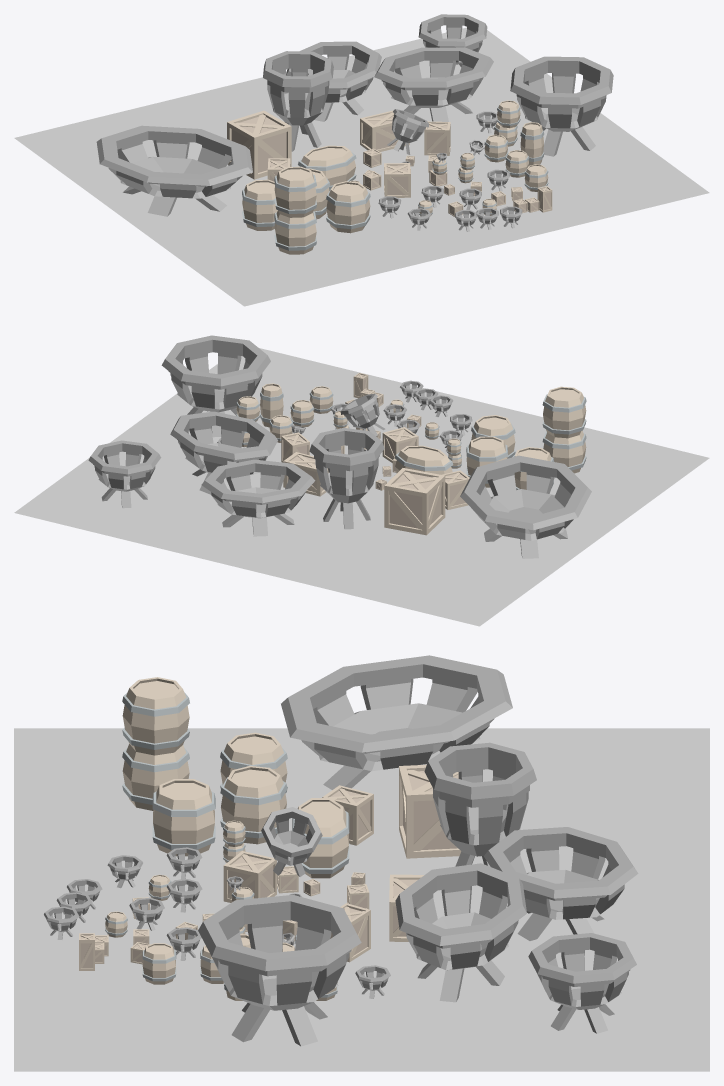
Rendered from scene_dungeon_fixed.glb.
3 views of the same model, one above another, from view 1: azimuth 30°, elevation 25°; view 2: azimuth 150°, elevation 25°; view 3: azimuth 270°, elevation 25° (orthographic). The views are drawn at different scales.
Parts seen in each view (by area): view 1: Plane, object1.038, object1.029, object1.024, object1.025, object1.023, object1.036, object1.030, object1.013, object1.041, object1.039, object1.028 (+11 smaller); view 2: Plane, object1.038, object1.029, object1.023, object1.025, object1.024, object1.036, object1.030, object1.041, object1.028, object1.040, object1.035 (+11 smaller); view 3: Plane, object1.038, object1.029, object1.024, object1.023, object1.025, object1.030, object1.041, object1.013, object1.036, object1.035, object1.028 (+15 smaller).
Part boxes in pixels (x1,y1,x2,y2): Plane: (14, 27, 709, 306); object1.038: (96, 125, 252, 216); object1.029: (510, 56, 613, 156); object1.024: (374, 47, 493, 121); object1.025: (263, 51, 333, 151); object1.023: (286, 41, 381, 121); object1.036: (227, 110, 291, 179); object1.030: (418, 14, 487, 67); object1.013: (326, 181, 370, 233); object1.041: (274, 166, 316, 217); object1.039: (242, 179, 277, 230); object1.028: (298, 145, 356, 190); Plane: (14, 348, 709, 626); object1.038: (460, 455, 591, 558); object1.029: (161, 335, 270, 437); object1.023: (201, 459, 315, 536); object1.025: (309, 428, 384, 529); object1.024: (170, 411, 277, 494); object1.036: (384, 468, 445, 535); object1.030: (88, 440, 161, 508); object1.041: (542, 386, 586, 438); object1.028: (394, 445, 453, 475); object1.040: (542, 430, 586, 473); object1.035: (466, 436, 508, 487); Plane: (14, 728, 709, 1071); object1.038: (281, 655, 512, 789); object1.029: (198, 895, 361, 1046); object1.024: (395, 863, 526, 1002); object1.023: (483, 827, 638, 940); object1.025: (424, 742, 536, 866); object1.030: (528, 933, 636, 1033); object1.041: (122, 677, 189, 755); object1.013: (152, 779, 215, 856); object1.036: (399, 764, 461, 858); object1.035: (220, 766, 287, 844); object1.028: (292, 798, 349, 878).
Size of the model in its own units: 164 by 26.02 by 139.
